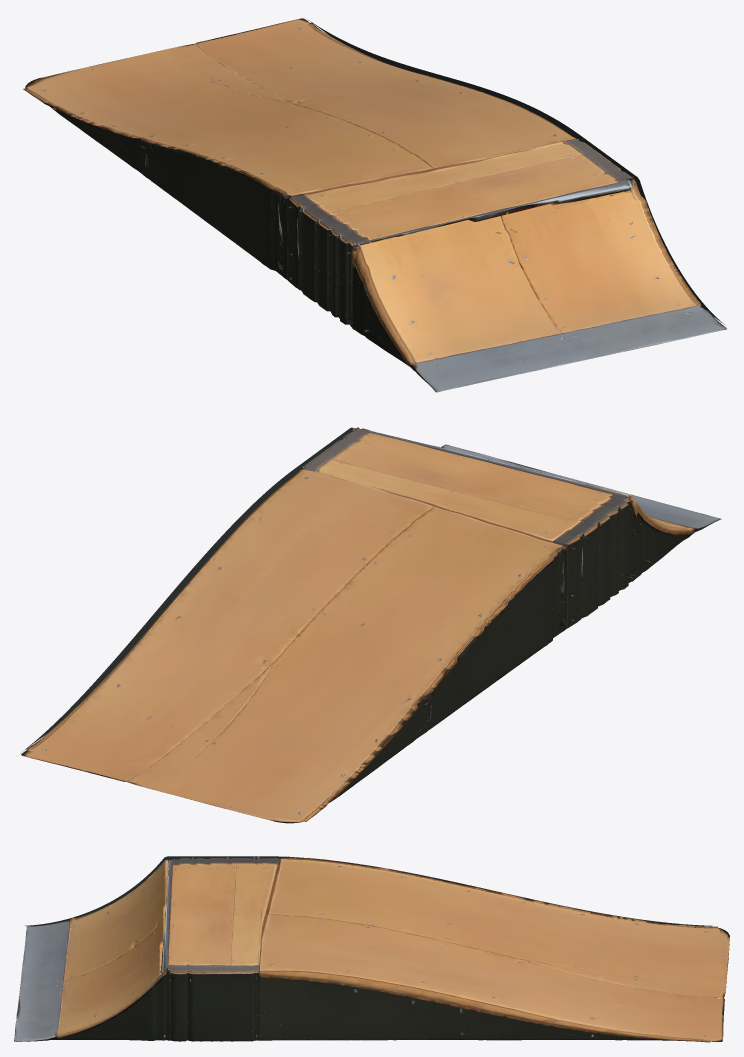
The model's file is small-box.glb.
3 views of the same model, one above another, from view 1: azimuth 30°, elevation 25°; view 2: azimuth 150°, elevation 25°; view 3: azimuth 270°, elevation 25° (orthographic). The views are drawn at different scales.
Parts seen in each view (by area): view 1: small-box original Tripo mesh fitted, small-box repaired side 1; view 2: small-box original Tripo mesh fitted, small-box repaired side 1; view 3: small-box original Tripo mesh fitted, small-box repaired side -1.
Boxes of the visible parts, box(x1,y1,x2,y2) form: small-box original Tripo mesh fitted: box(23, 18, 726, 392); small-box repaired side 1: box(309, 20, 724, 324); small-box original Tripo mesh fitted: box(21, 427, 721, 823); small-box repaired side 1: box(21, 427, 353, 752); small-box original Tripo mesh fitted: box(14, 856, 729, 1042); small-box repaired side -1: box(25, 856, 712, 925).
Size of the model in its own units: 5.01 by 1.41 by 13.
Materials: 2 (1 with a texture image).
